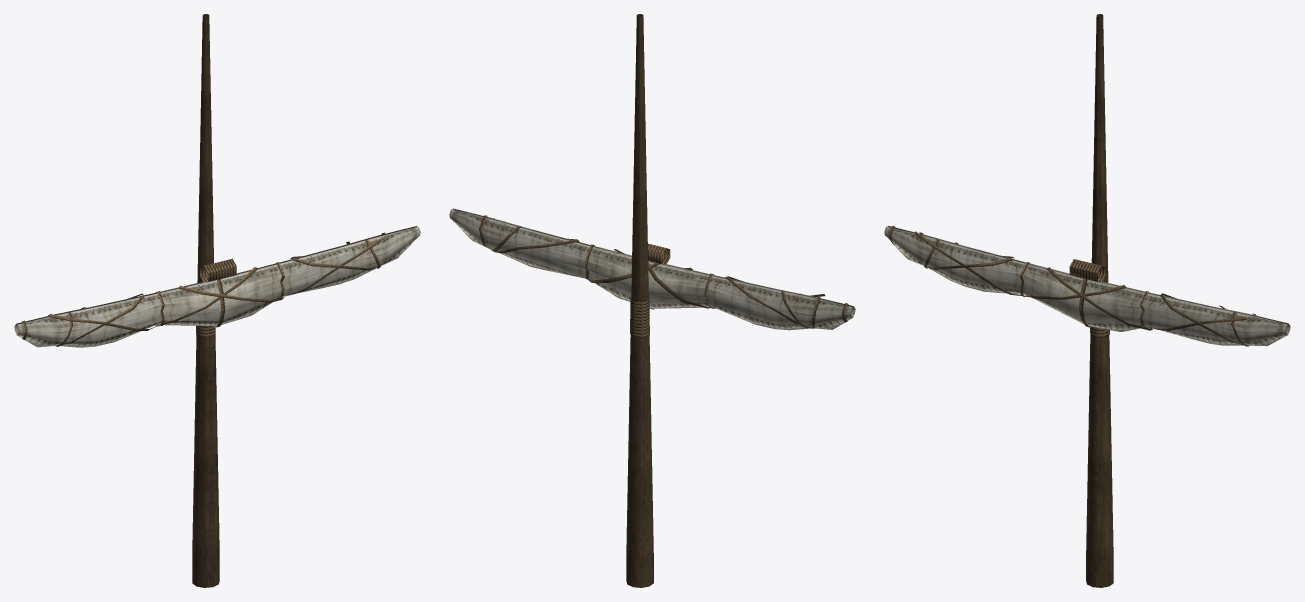
File: main_dot.fbx
The picture shows the model from 3 angles, left to right: view 1: azimuth 30°, elevation 25°; view 2: azimuth 150°, elevation 25°; view 3: azimuth 330°, elevation 25°; orthographic projection.
Parts seen in each view (by area): view 1: main_dot; view 2: main_dot; view 3: main_dot.
Boxes of the visible parts, left/top/right/bottom form: main_dot: left=14, top=14, right=420, bottom=587; main_dot: left=449, top=14, right=855, bottom=587; main_dot: left=884, top=14, right=1290, bottom=587.
Size of the model in its own units: 55.27 by 74.56 by 6.16.
